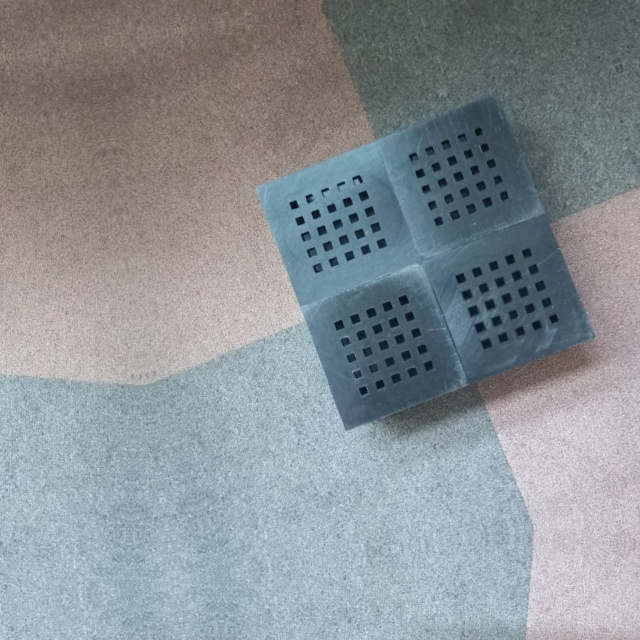pallet: (247, 86, 601, 437)
